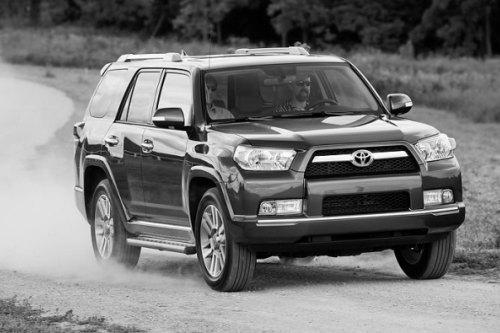car: (70, 46, 468, 291)
